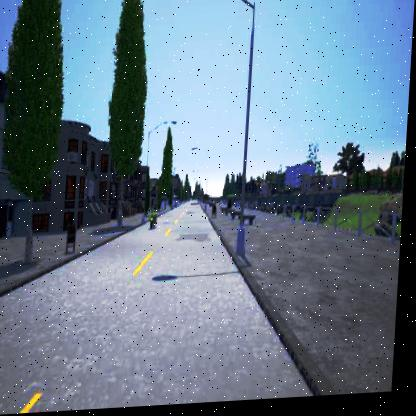motobike: (151, 205, 160, 229)
